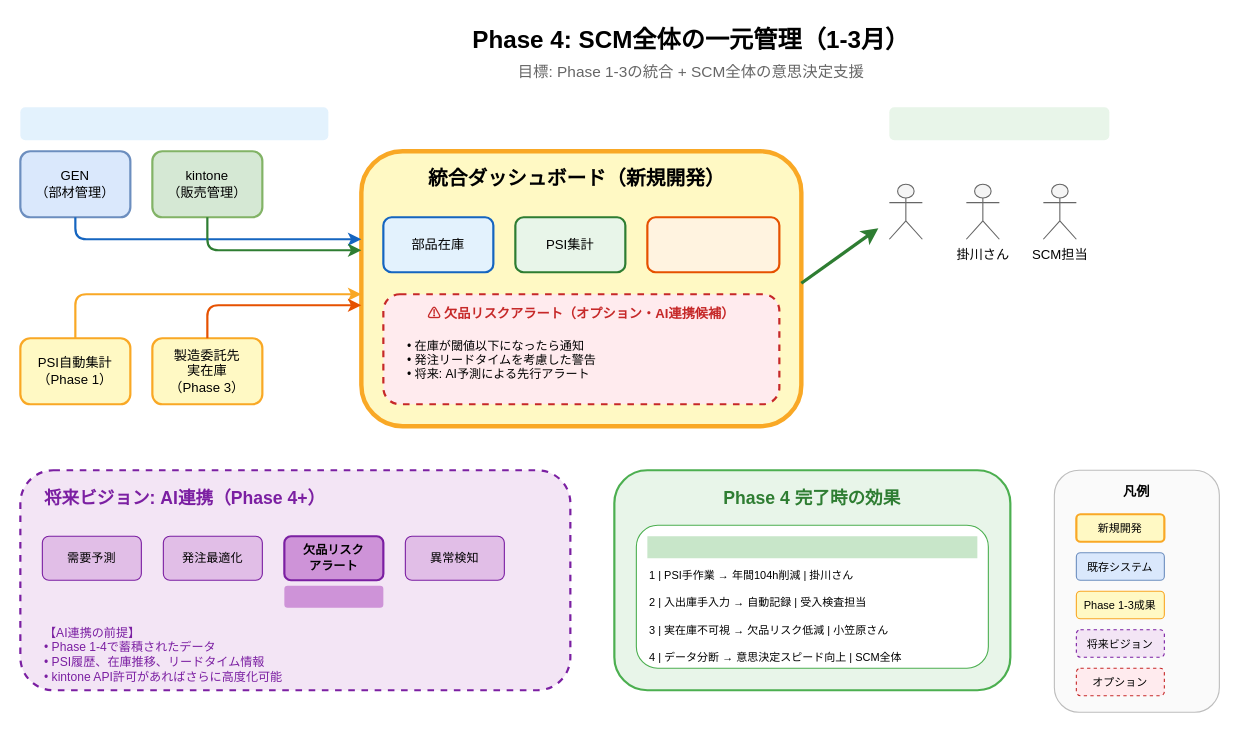
Image size: 1239x732. Some labels were removed from this diagram. Each missing label, with the centre of its shape:
FY26着手候補: (333,596)
Phase | 解決する課題 | 受益者: (812,547)
データソース（Phase 1-3で構築済み）: (174,123)
ユーザー（SCM関係者）: (999,123)
小笠原さん: (905,211)
製造委託先在庫: (713,244)
